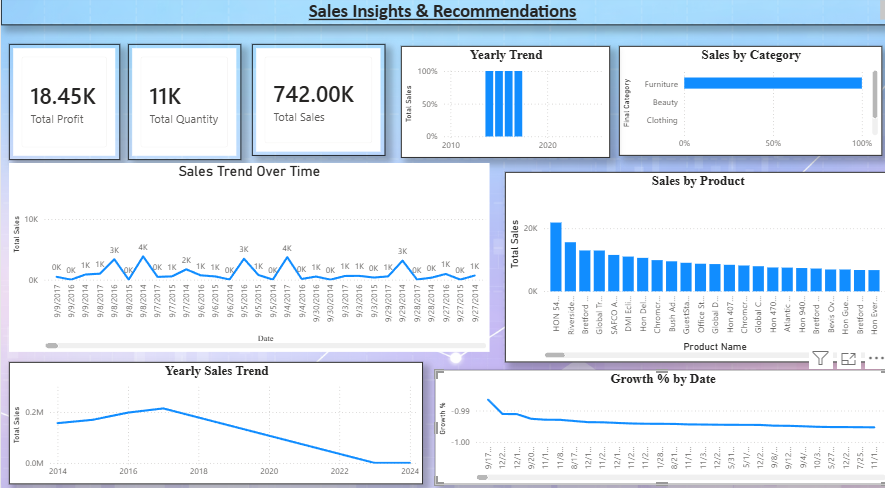

The page's visual inventory and layout, read from the dashboard file:
{"tool":"powerbi","page":{"name":"Page 1","canvas":[1280,720],"ordinal":0},"visuals":[{"type":"cardVisual","fields":{"Data":["Final_Sales_Data.Total Profit"]},"box":[11.5,69.1,159.8,167],"z":0},{"type":"cardVisual","fields":{"Data":["Final_Sales_Data.Total Quantity"]},"box":[182.9,69.1,162.7,167],"z":1000},{"type":"cardVisual","fields":{"Data":["Final_Sales_Data.Total Sales"]},"box":[361.4,69.1,191.5,161.3],"z":2000},{"type":"hundredPercentStackedBarChart","title":"Sales by Category","fields":{"Category":["Final_Sales_Data.Final Category"],"Y":["Final_Sales_Data.Total Sales"]},"box":[889.9,72,378.7,158.4],"z":4000},{"type":"columnChart","title":"Sales by Product","fields":{"Category":["Final_Sales_Data.Product Name"],"Y":["Final_Sales_Data.Total Sales"]},"box":[725.7,253.6,554.3,273.8],"z":5000},{"type":"hundredPercentStackedColumnChart","title":"Yearly Trend","fields":{"Category":["Final_Sales_Data.Year"],"Y":["Final_Sales_Data.Total Sales"]},"box":[576,72,301,161.3],"z":6000},{"type":"cardVisual","fields":{"Data":["Sum(Final_Sales_Data.Price per Unit)"]},"box":[819.7,569.4,265.4,112.5],"z":7000},{"type":"textbox","box":[0,0,1280.2,41.8],"z":8000},{"type":"lineChart","title":"Yearly Sales Trend","fields":{"Y":["Final_Sales_Data.Total Sales"],"Category":["Final_Sales_Data.Year"]},"box":[11.8,527.5,596.3,176.4],"z":9000},{"type":"lineChart","fields":{"Y":["Final_Sales_Data.MoM Growth %"],"Category":["Final_Sales_Data.Date"]},"box":[624.9,539.2,655.1,164.6],"z":10000},{"type":"lineChart","title":"Sales Trend Over Time","fields":{"Category":["Final_Sales_Data.Date"],"Y":["Final_Sales_Data.Total Sales"]},"box":[11.8,240.2,692.1,272.1],"z":12002}]}

Visuals, with their boxes in screenshot pixels (x1, y1, x2, y2), scaled from the page's 1280x720 canvas onto the 885x488 screenshot:
cardVisual - Final_Sales_Data.Total Profit: [left=8, top=47, right=118, bottom=160]
cardVisual - Final_Sales_Data.Total Quantity: [left=126, top=47, right=239, bottom=160]
cardVisual - Final_Sales_Data.Total Sales: [left=250, top=47, right=382, bottom=156]
"Sales by Category" hundredPercentStackedBarChart: [left=615, top=49, right=877, bottom=156]
"Sales by Product" columnChart: [left=502, top=172, right=884, bottom=357]
"Yearly Trend" hundredPercentStackedColumnChart: [left=398, top=49, right=606, bottom=158]
cardVisual - Sum(Final_Sales_Data.Price per Unit): [left=567, top=386, right=750, bottom=462]
textbox: [left=0, top=0, right=884, bottom=28]
"Yearly Sales Trend" lineChart: [left=8, top=358, right=420, bottom=477]
lineChart - Final_Sales_Data.MoM Growth % x Final_Sales_Data.Date: [left=432, top=365, right=884, bottom=477]
"Sales Trend Over Time" lineChart: [left=8, top=163, right=487, bottom=347]
